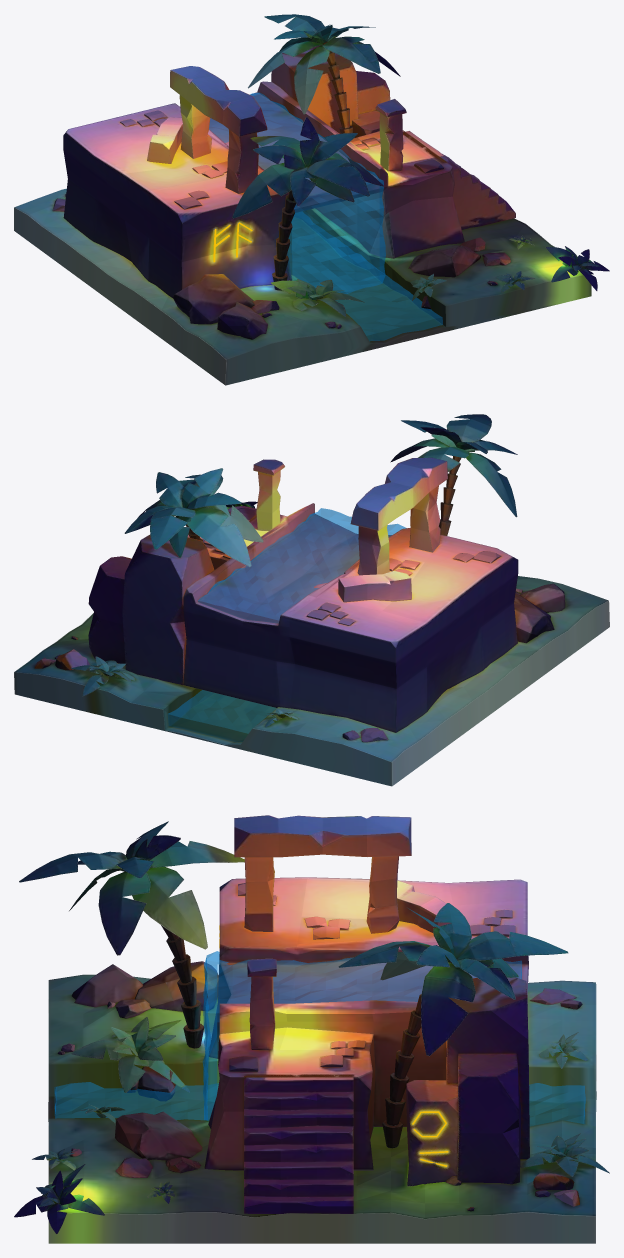
Rendered from ruin.glb.
3 views of the same model, one above another, from view 1: azimuth 30°, elevation 25°; view 2: azimuth 150°, elevation 25°; view 3: azimuth 270°, elevation 25° (orthographic). The views are drawn at different scales.
Parts seen in each view (by area): view 1: Baked, Water; view 2: Baked, Water; view 3: Baked, Water.
Boxes of the visible parts, left/top/right/bottom form: Baked: left=14, top=14, right=609, bottom=385; Water: left=209, top=92, right=442, bottom=340; Baked: left=14, top=414, right=609, bottom=786; Water: left=168, top=508, right=406, bottom=741; Baked: left=14, top=815, right=609, bottom=1243; Water: left=54, top=951, right=585, bottom=1126.
Bounding box in the file's own units: 8.48 × 4.32 × 8.71.
4 materials, 2 textured.
